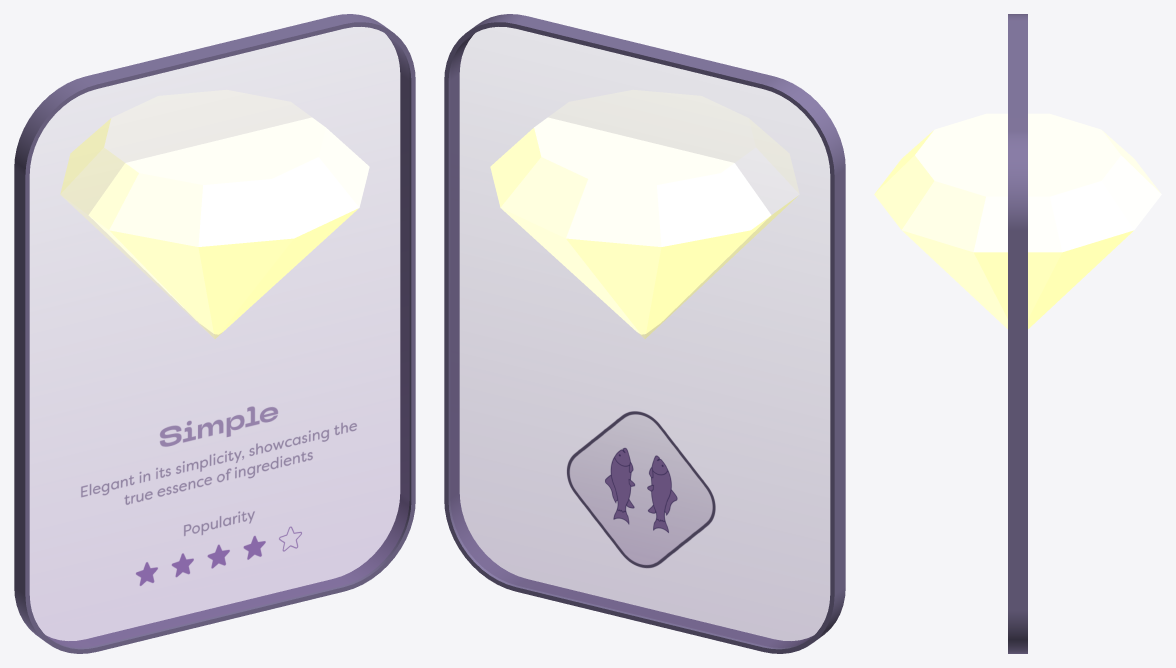
The model's file is simple.glb.
The picture shows the model from 3 angles, left to right: view 1: azimuth 30°, elevation 25°; view 2: azimuth 150°, elevation 25°; view 3: azimuth 270°, elevation 25°; orthographic projection. The views are drawn at different scales.
Parts seen in each view (by area): view 1: Bhai_Card.tex.028, Jewel_03_Circle.002, Bhai_Card.out.028; view 2: Bhai_Card.tex.028, Jewel_03_Circle.002, Bhai_Card.out.028; view 3: Jewel_03_Circle.002, Bhai_Card.out.028.
Boxes of the visible parts, bbox=[...] form: Bhai_Card.tex.028: bbox=[30, 153, 409, 647]; Jewel_03_Circle.002: bbox=[60, 89, 369, 338]; Bhai_Card.out.028: bbox=[14, 14, 415, 653]; Bhai_Card.tex.028: bbox=[450, 153, 829, 647]; Jewel_03_Circle.002: bbox=[490, 89, 799, 338]; Bhai_Card.out.028: bbox=[444, 14, 845, 653]; Jewel_03_Circle.002: bbox=[874, 113, 1161, 328]; Bhai_Card.out.028: bbox=[1008, 14, 1027, 653].
Bounding box in the file's own units: 1.81 × 2.51 × 1.27.
4 materials, 2 textured.
